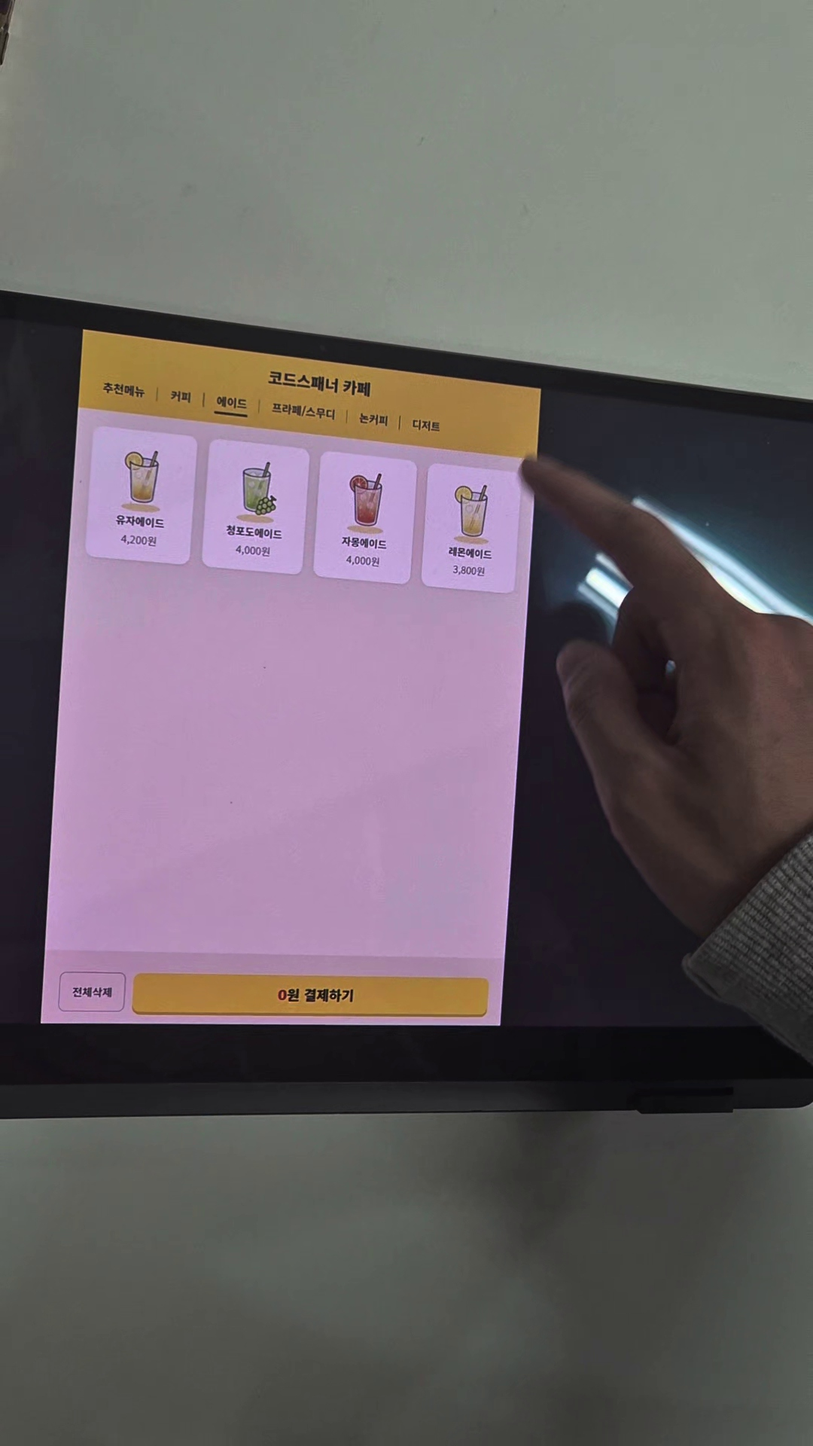action_button: (131, 973, 490, 1017), (59, 972, 125, 1011)
category_tab: (271, 401, 336, 422), (102, 381, 146, 400), (216, 395, 249, 411), (358, 411, 389, 428), (411, 417, 441, 434), (170, 389, 192, 404)
menu_back: (85, 426, 199, 566), (201, 438, 311, 576), (312, 451, 418, 586), (420, 463, 523, 595)
menu_name: (224, 524, 283, 541), (114, 512, 166, 531), (341, 534, 388, 552), (447, 545, 493, 562)
menu_price: (119, 533, 157, 549), (345, 553, 381, 569), (234, 544, 271, 559), (452, 563, 486, 578)
